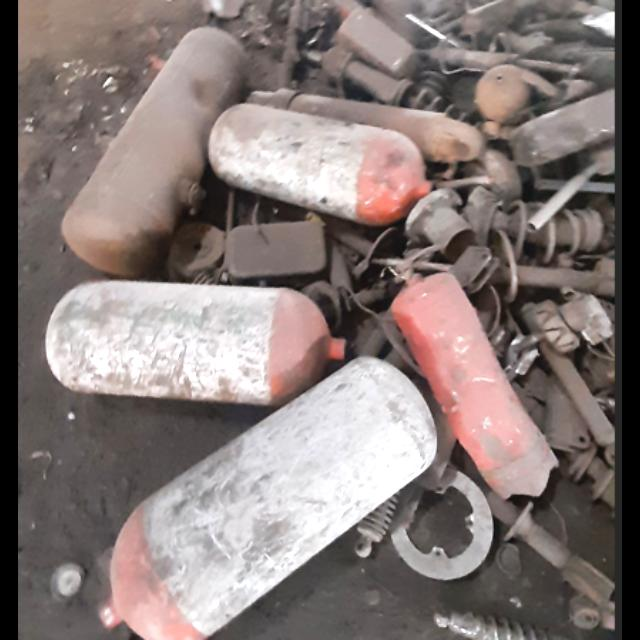Cylinders: (89, 357, 431, 639), (44, 284, 349, 403)
Shock Absorber: (430, 600, 588, 639)
